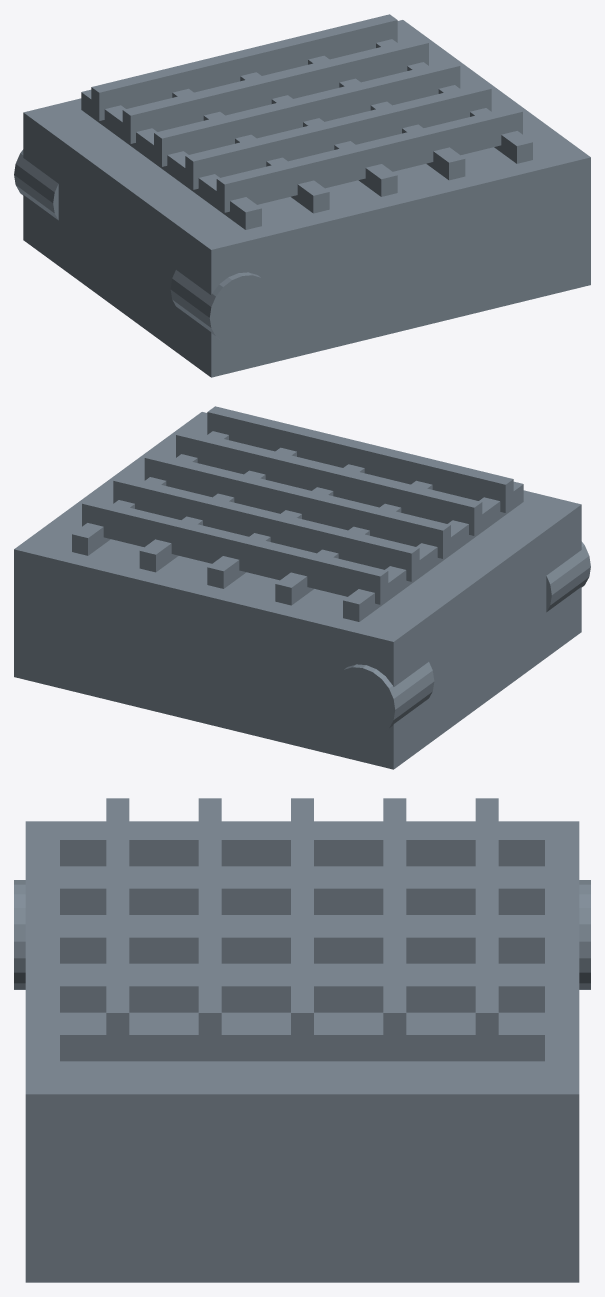
Rendered from 19_inverter_connectors.glb.
The picture shows the model from 3 angles, top to bottom: view 1: azimuth 30°, elevation 25°; view 2: azimuth 150°, elevation 25°; view 3: azimuth 270°, elevation 25°; orthographic projection. The views are drawn at different scales.
Visible parts, largest first — view 1: 19_inverter_connectors; view 2: 19_inverter_connectors; view 3: 19_inverter_connectors.
Boxes of the visible parts, bbox=[...] form: 19_inverter_connectors: bbox=[14, 14, 590, 377]; 19_inverter_connectors: bbox=[14, 406, 590, 769]; 19_inverter_connectors: bbox=[14, 798, 590, 1282].
Bounding box in the file's own units: 28.4 × 11.5 × 25.
